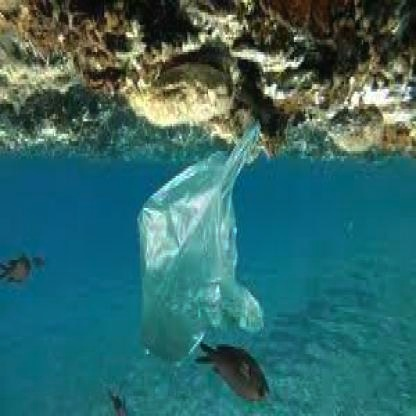pbag: (136, 116, 265, 369)
